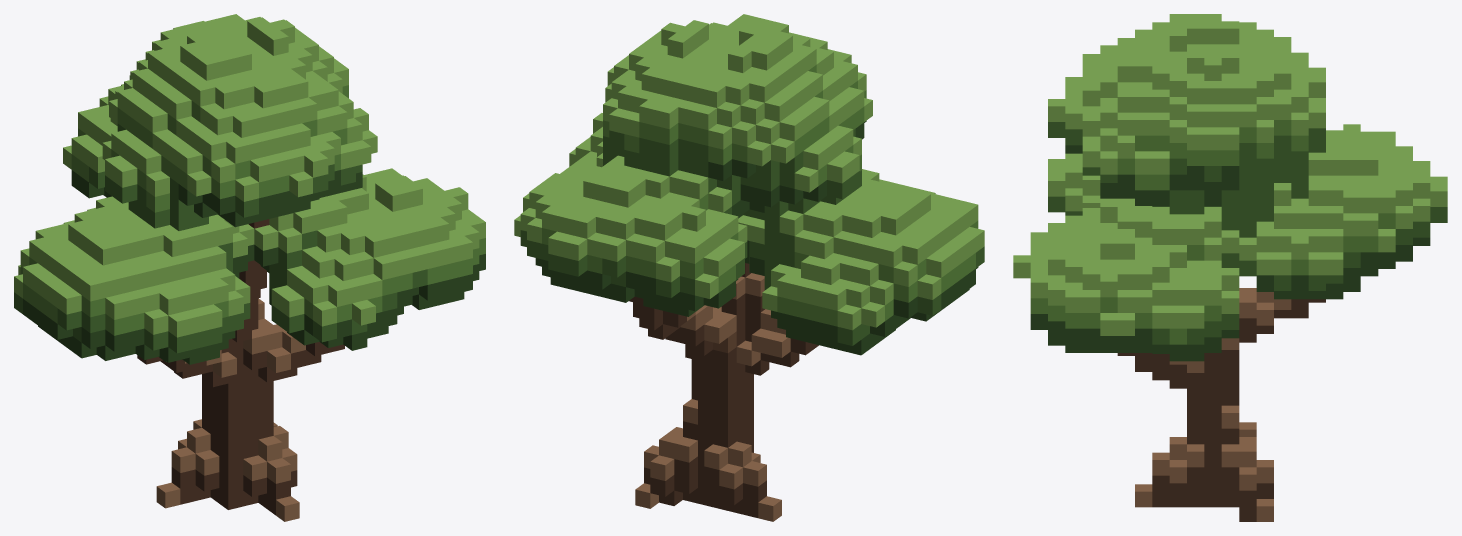
File: SM_Oak_B.fbx
3 renders of one model, left to right at view 1: azimuth 30°, elevation 25°; view 2: azimuth 150°, elevation 25°; view 3: azimuth 270°, elevation 25°, orthographic.
Parts seen in each view (by area): view 1: SM_Oak_B; view 2: SM_Oak_B; view 3: SM_Oak_B.
Boxes of the visible parts, x1,y1,x2,y2 form: SM_Oak_B: (14, 14, 485, 521); SM_Oak_B: (514, 14, 984, 521); SM_Oak_B: (1013, 14, 1447, 521).
Bounding box in the file's own units: 2.7 × 2.9 × 2.5.
Materials: 1 (1 with a texture image).
